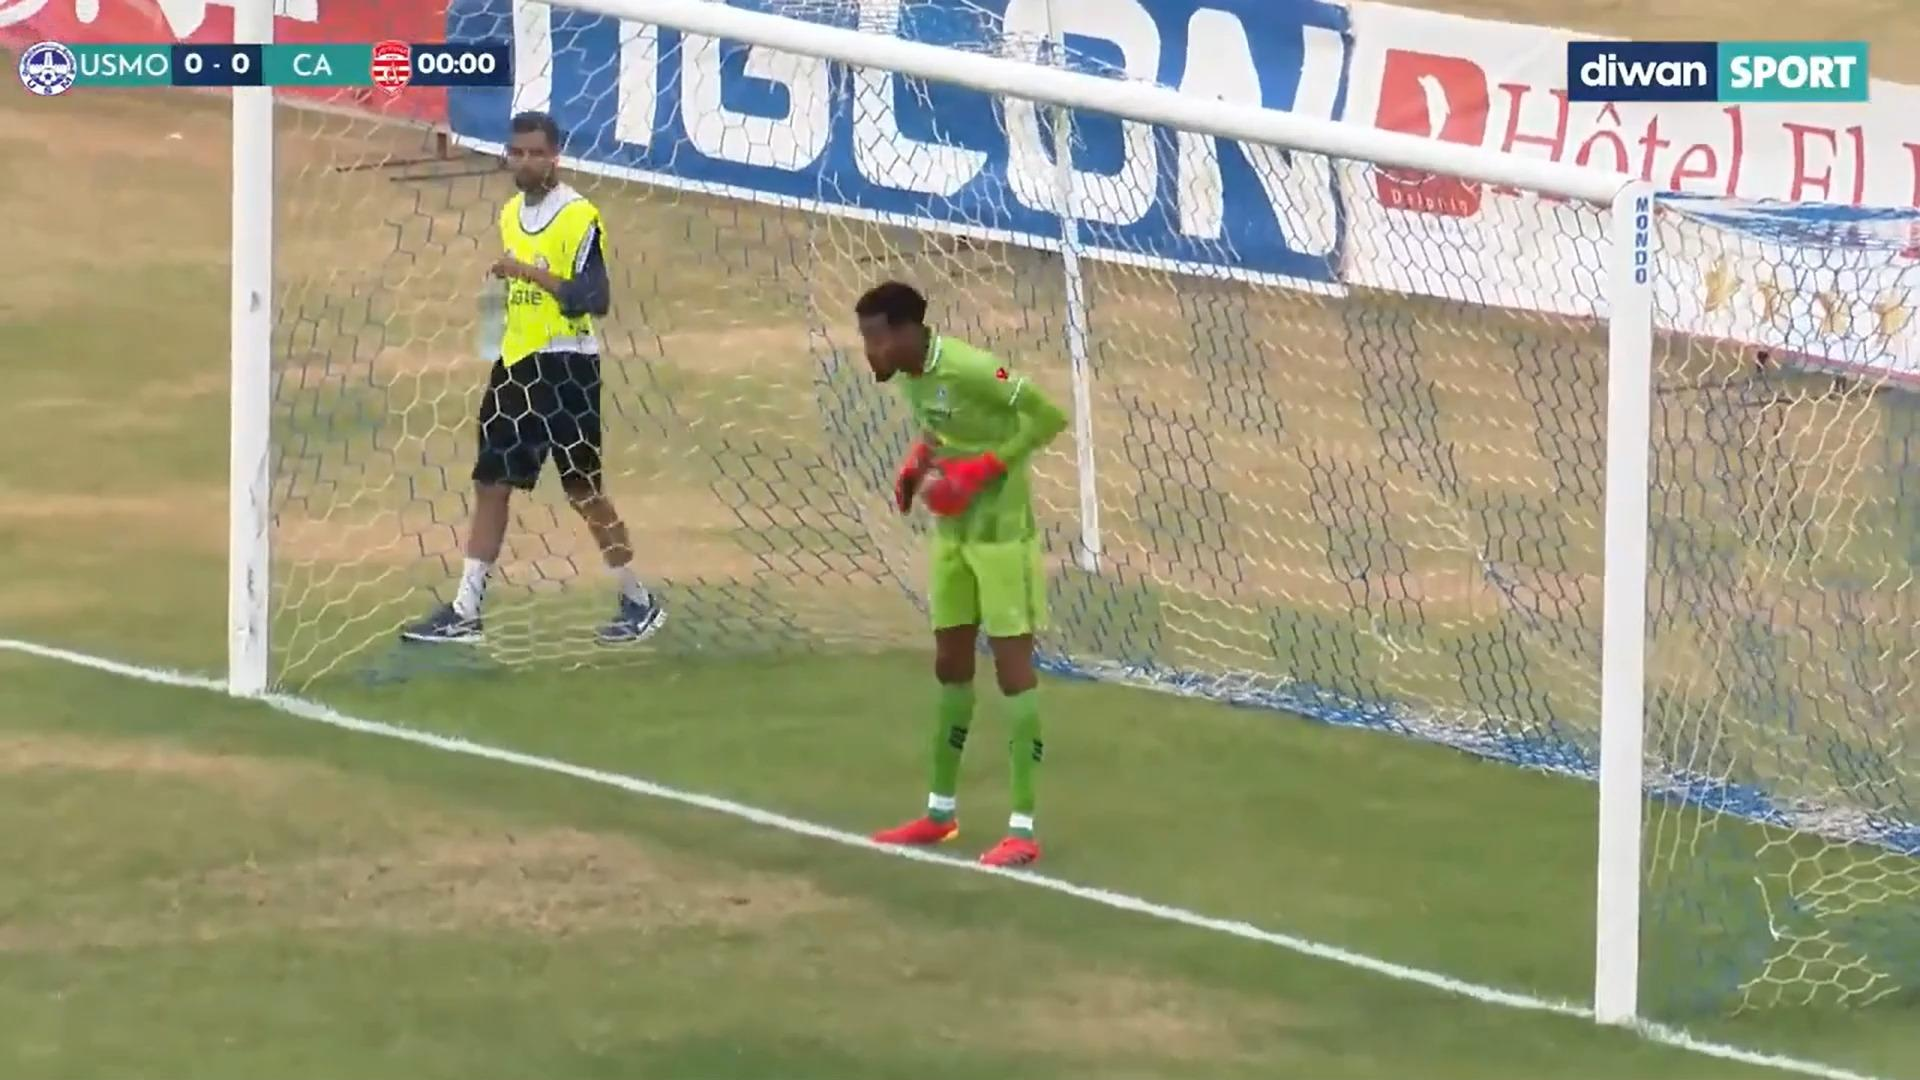goalkeeper: (823, 265, 1096, 893)
